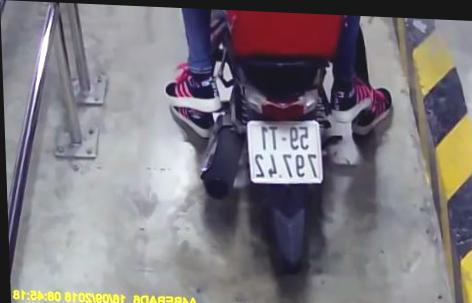License_Plate: (241, 115, 330, 195)
